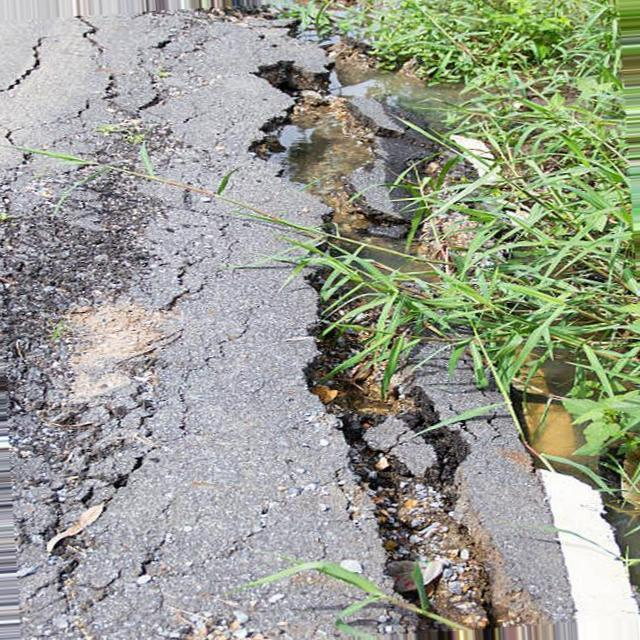Pinggir: (206, 7, 544, 640)
